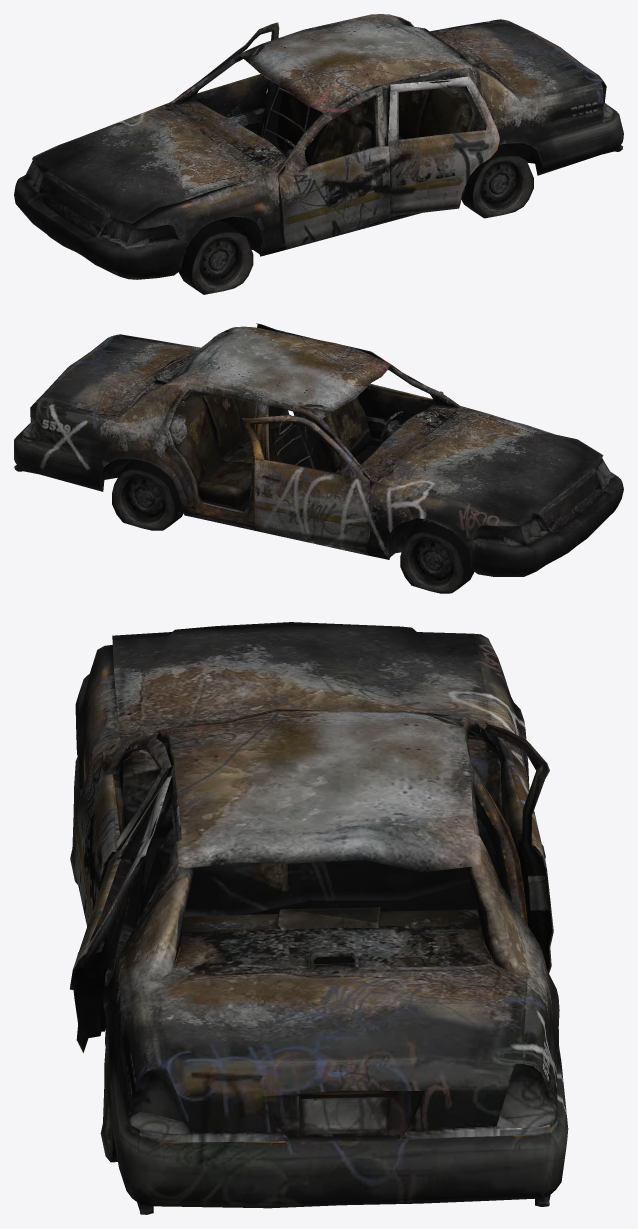
File: car_police.glb
3 views of the same model, one above another, from view 1: azimuth 30°, elevation 25°; view 2: azimuth 150°, elevation 25°; view 3: azimuth 270°, elevation 25° (orthographic). The views are drawn at different scales.
Visible parts, largest first — view 1: Object004_Material #98_0; view 2: Object004_Material #98_0; view 3: Object004_Material #98_0.
Part boxes in pixels (bbox=[...]): Object004_Material #98_0: bbox=[14, 14, 623, 294]; Object004_Material #98_0: bbox=[14, 323, 623, 593]; Object004_Material #98_0: bbox=[69, 622, 568, 1214].
Bounding box in the file's own units: 5.2 × 1.38 × 2.13.
1 material, 1 textured.
